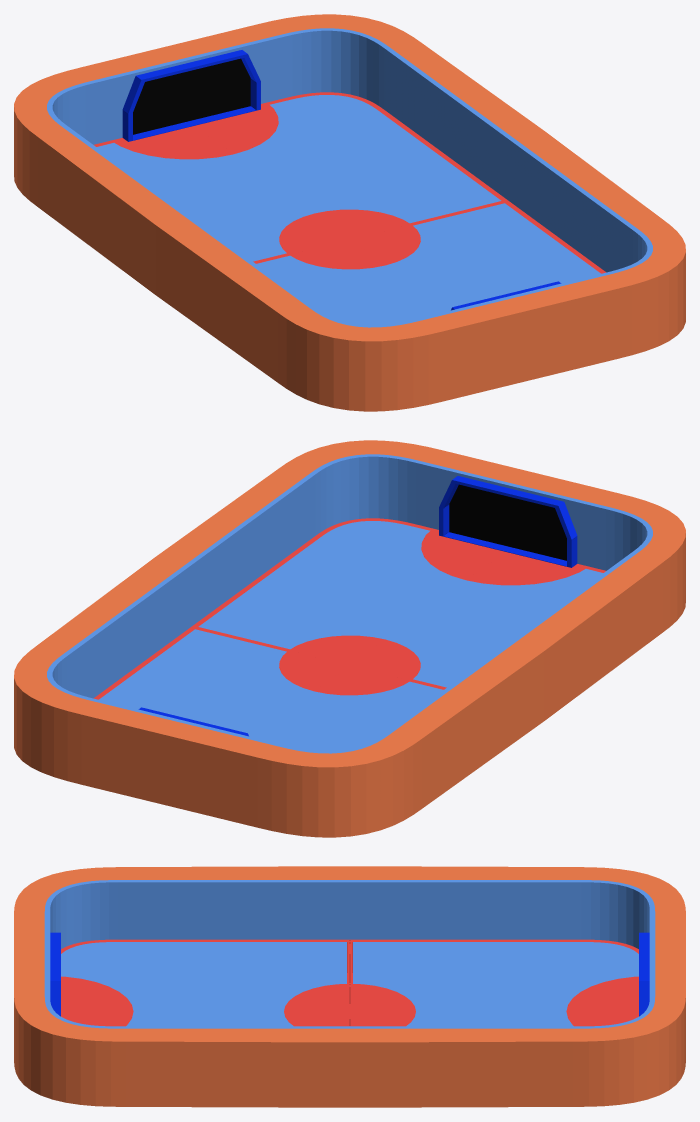
The model's file is oregatukuritaige-mu.fbx.
The picture shows the model from 3 angles, top to bottom: view 1: azimuth 30°, elevation 25°; view 2: azimuth 150°, elevation 25°; view 3: azimuth 270°, elevation 25°; orthographic projection. The views are drawn at different scales.
Parts seen in each view (by area): view 1: barrier2, ground, barrier1, goal; view 2: barrier2, ground, barrier1, goal; view 3: barrier2, ground, barrier1, goal.
Boxes of the visible parts, x1=… form: barrier2: x1=14, y1=14, x2=685, y2=411; ground: x1=94, y1=92, x2=606, y2=324; barrier1: x1=47, y1=28, x2=652, y2=327; goal: x1=122, y1=50, x2=561, y2=310; barrier2: x1=14, y1=440, x2=685, y2=837; ground: x1=93, y1=518, x2=605, y2=750; barrier1: x1=47, y1=454, x2=652, y2=753; goal: x1=138, y1=476, x2=577, y2=736; barrier2: x1=14, y1=866, x2=685, y2=1107; ground: x1=61, y1=939, x2=638, y2=1026; barrier1: x1=44, y1=880, x2=655, y2=1028; goal: x1=50, y1=932, x2=649, y2=1016.
Size of the model in its own units: 3422 by 591 by 5514.
Materials: 4 (4 with a texture image).
